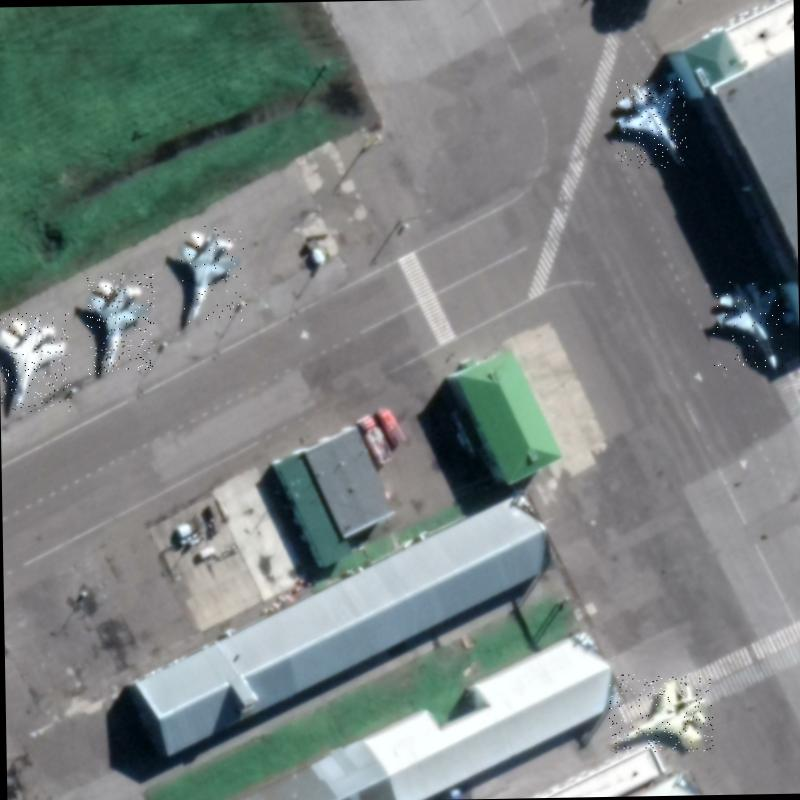A1: (608, 672, 713, 752), (86, 272, 156, 374), (0, 312, 71, 412), (712, 278, 786, 370), (180, 224, 247, 322), (615, 77, 687, 168)
